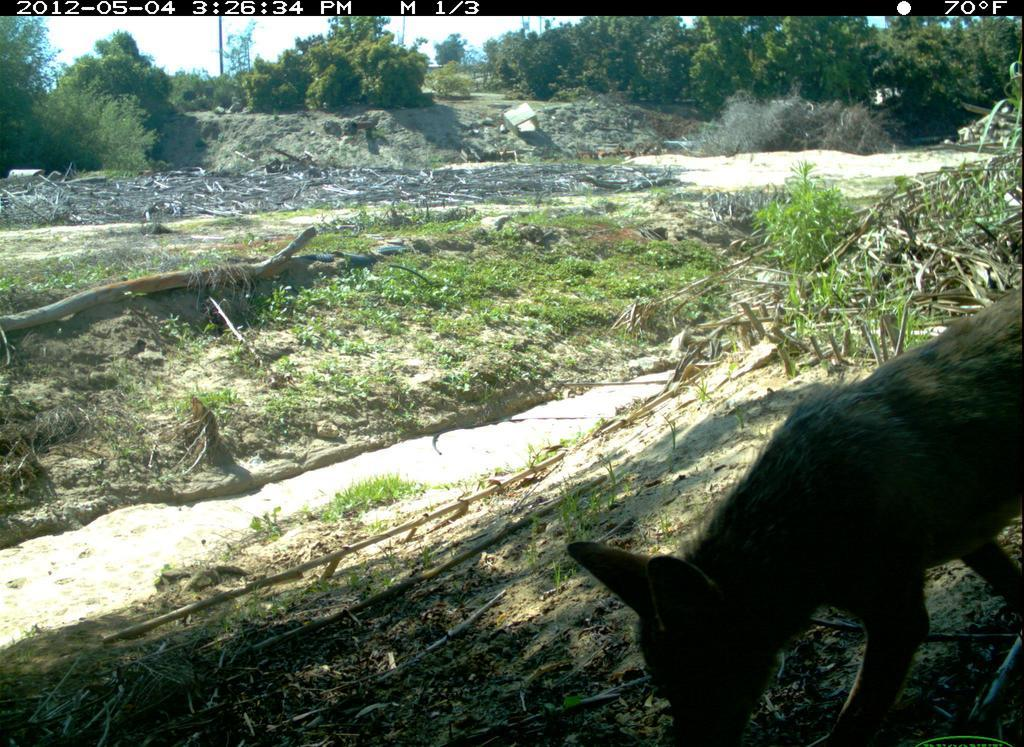coyote: (564, 272, 1022, 747)
